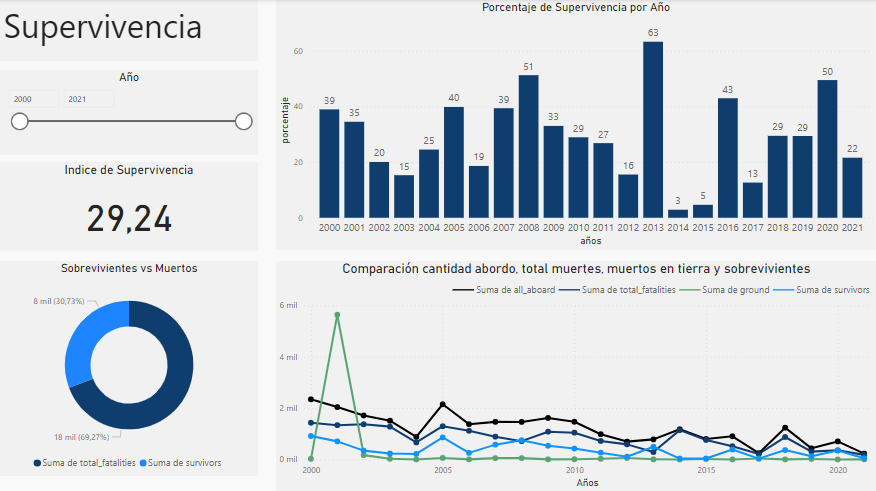

The dashboard page shown, as its layout file describes it:
{"tool":"powerbi","page":{"name":"Supervivencia","canvas":[1280,720],"ordinal":0},"visuals":[{"type":"lineChart","title":"Comparación cantidad abordo, total muertes, muertos en tierra y sobrevivientes","fields":{"Y":["Sum(supervivencia.all_aboard)","Sum(supervivencia.total_fatalities)","Sum(supervivencia.ground)","Sum(supervivencia.survivors)"],"Category":["supervivencia.year.Variación.Jerarquía de fechas.Año"]},"box":[402.9,382.9,877.1,337.1],"z":0},{"type":"clusteredColumnChart","title":"Porcentaje de Supervivencia por Año","fields":{"Category":["supervivencia.year.Variación.Jerarquía de fechas.Año"],"Y":["Sum(supervivencia.porcentaje)"]},"box":[403.1,1.5,876.3,365.1],"z":1000},{"type":"donutChart","title":"Sobrevivientes vs Muertos","fields":{"Y":["Sum(supervivencia.total_fatalities)","Sum(supervivencia.survivors)"]},"box":[0,382.6,376.8,314],"z":2000},{"type":"card","title":"Indice de Supervivencia","fields":{"Values":["Avg(supervivencia.porcentaje)"]},"box":[0,238.1,376.8,128.5],"z":3000},{"type":"slicer","title":"Año","fields":{"Values":["supervivencia.year.Variación.Jerarquía de fechas.Año"]},"box":[0,103.7,376.8,124.1],"z":4000},{"type":"textbox","box":[0,0,376.8,90.5],"z":5000}]}

Visuals, with their boxes in screenshot pixels (x1, y1, x2, y2), scaled from the page's 1280x720 canvas onto the 876x491 screenshot:
"Comparación cantidad abordo, total muertes, muertos en tierra y sobrevivientes" lineChart: (276, 261, 875, 490)
"Porcentaje de Supervivencia por Año" clusteredColumnChart: (276, 1, 875, 250)
"Sobrevivientes vs Muertos" donutChart: (0, 261, 258, 475)
"Indice de Supervivencia" card: (0, 162, 258, 250)
"Año" slicer: (0, 71, 258, 155)
textbox: (0, 0, 258, 62)
